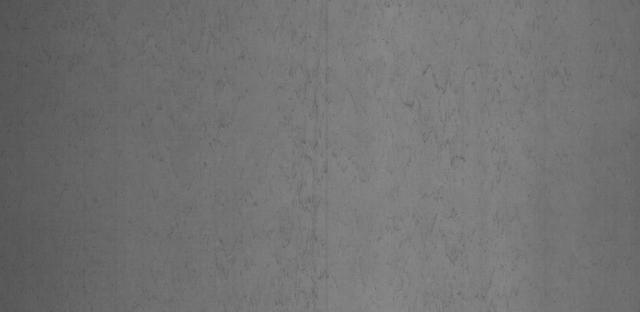silk_spot: (371, 11, 620, 286), (171, 18, 361, 298)
